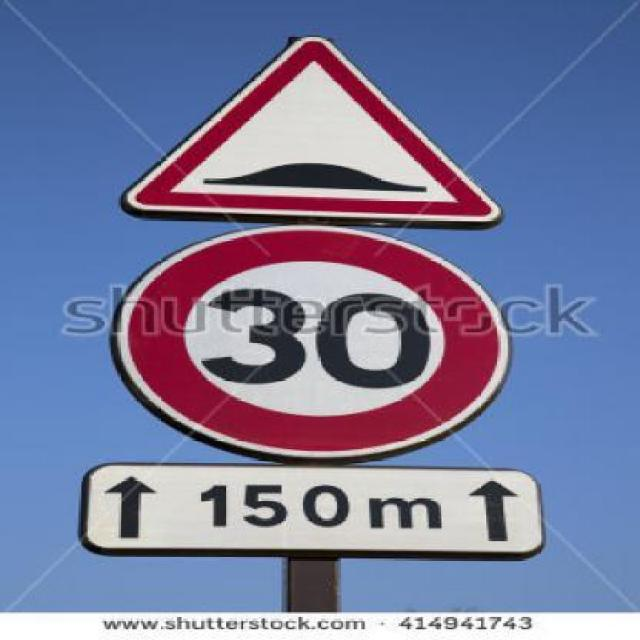Ograniczenie predkosci do 30: (130, 235, 519, 456)
